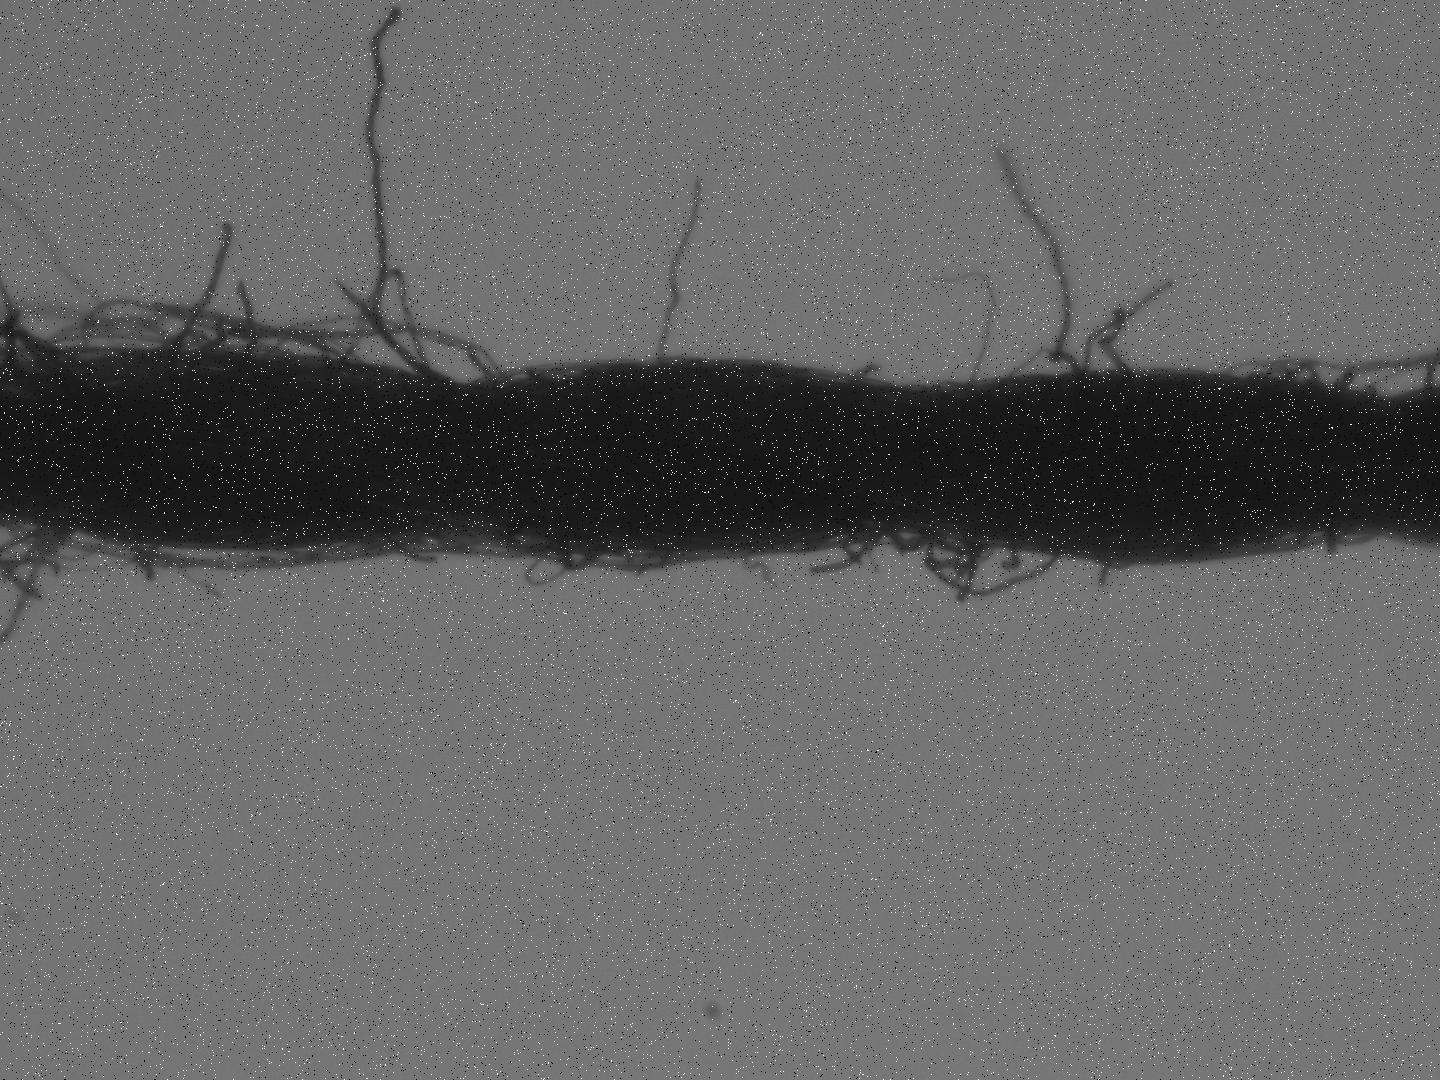loop_fiber: (259, 315, 508, 378), (85, 530, 432, 572), (921, 522, 1060, 598), (342, 267, 437, 376), (82, 301, 209, 360), (197, 326, 331, 368), (41, 317, 187, 354), (514, 529, 613, 569), (875, 524, 940, 557), (1306, 521, 1383, 547), (1227, 357, 1294, 387), (150, 331, 222, 352), (236, 286, 253, 362), (1289, 362, 1325, 387)
protruding_fiber: (366, 6, 430, 385), (990, 143, 1085, 380), (158, 216, 230, 366), (657, 178, 708, 360), (1094, 304, 1141, 380)
